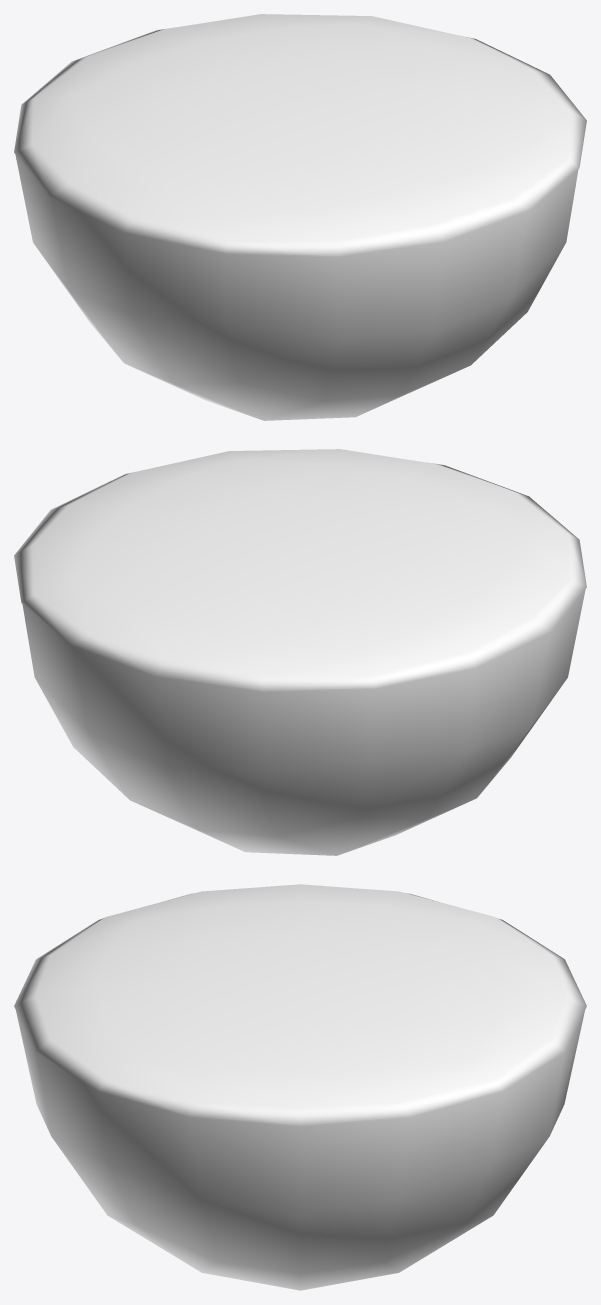
File: Takoyaki.fbx
The picture shows the model from 3 angles, top to bottom: view 1: azimuth 30°, elevation 25°; view 2: azimuth 150°, elevation 25°; view 3: azimuth 270°, elevation 25°; orthographic projection.
Parts seen in each view (by area): view 1: Takoyaki_Pan1:Takoyaki_Pan_TakoyakiSG1; view 2: Takoyaki_Pan1:Takoyaki_Pan_TakoyakiSG1; view 3: Takoyaki_Pan1:Takoyaki_Pan_TakoyakiSG1.
Part boxes in pixels (bbox=[...]): Takoyaki_Pan1:Takoyaki_Pan_TakoyakiSG1: bbox=[14, 14, 586, 420]; Takoyaki_Pan1:Takoyaki_Pan_TakoyakiSG1: bbox=[14, 449, 586, 855]; Takoyaki_Pan1:Takoyaki_Pan_TakoyakiSG1: bbox=[14, 884, 586, 1290].
Bounding box in the file's own units: 0.4 × 0.2188 × 0.4.
